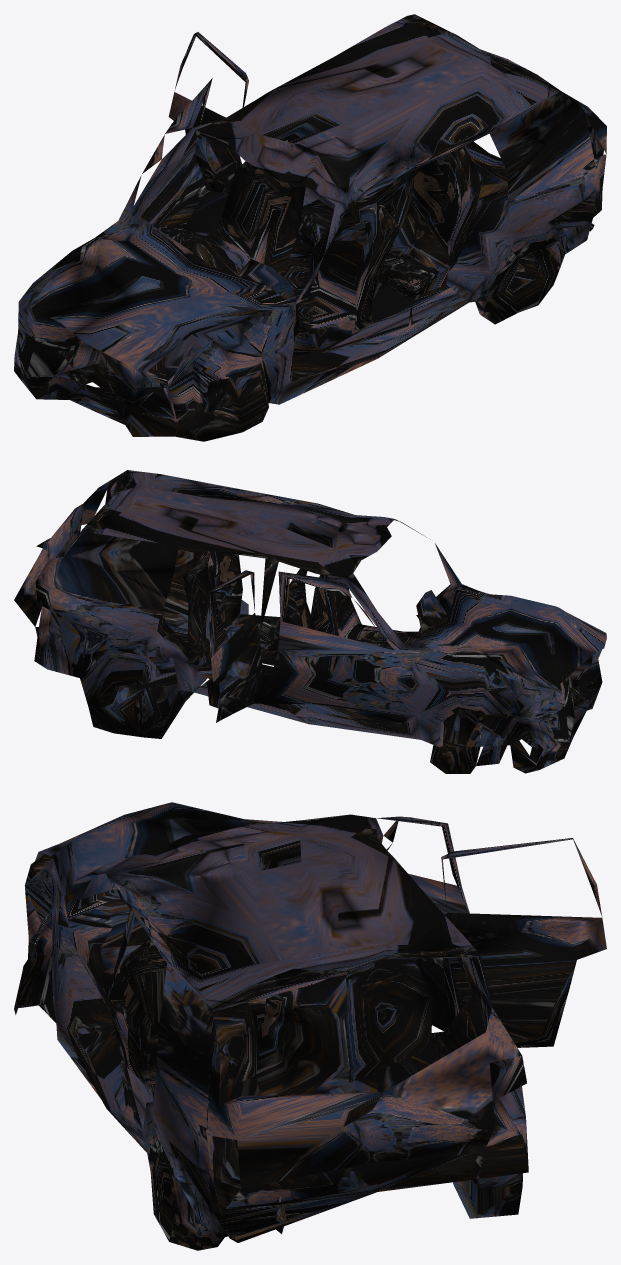
The model's file is crashed_abandoned_car.glb.
3 renders of one model, top to bottom at view 1: azimuth 30°, elevation 25°; view 2: azimuth 150°, elevation 25°; view 3: azimuth 270°, elevation 25°, orthographic. The views are drawn at different scales.
Parts seen in each view (by area): view 1: crashed_abandoned_car; view 2: crashed_abandoned_car; view 3: crashed_abandoned_car.
Boxes of the visible parts, left/top/right/bottom form: crashed_abandoned_car: left=14, top=14, right=606, bottom=441; crashed_abandoned_car: left=14, top=470, right=606, bottom=773; crashed_abandoned_car: left=14, top=802, right=606, bottom=1250.
Bounding box in the file's own units: 7.39 × 2.76 × 4.96.
1 material, 1 textured.
